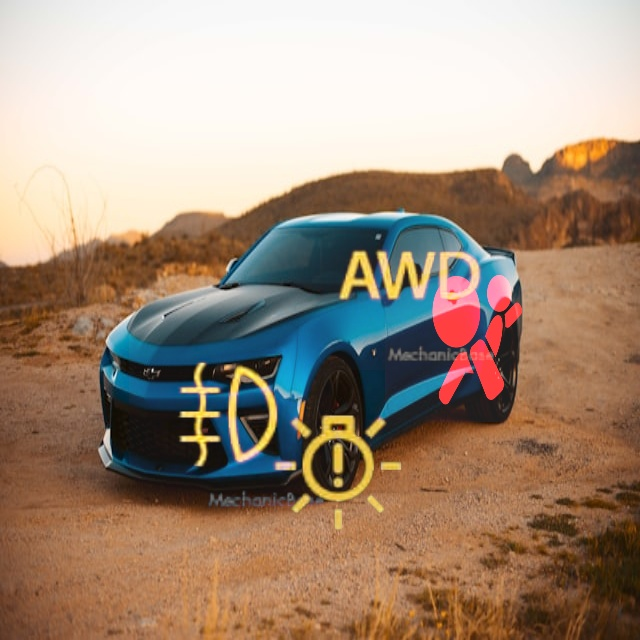symbol: (235, 369, 446, 580), (129, 314, 332, 517), (316, 185, 501, 370), (385, 249, 558, 422)
